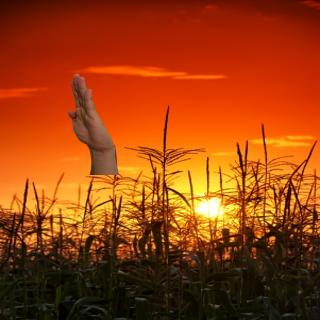RIGHT: (62, 71, 118, 158)
